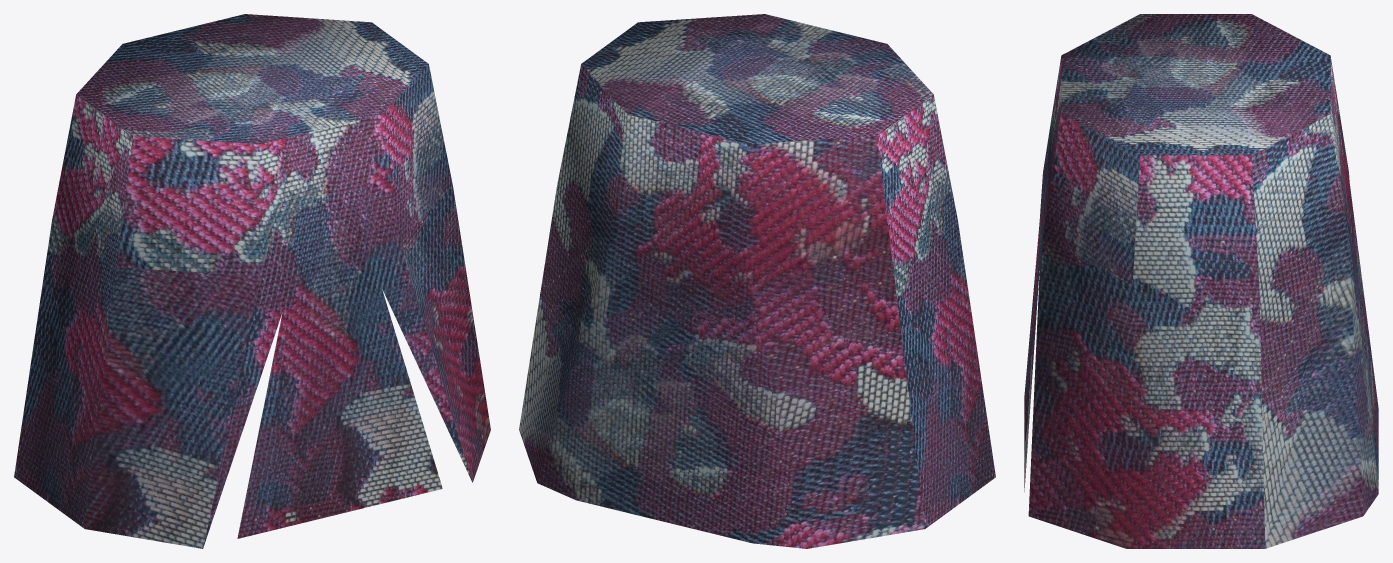
Rendered from Skirt_anim.gltf.
The picture shows the model from 3 angles, left to right: view 1: azimuth 30°, elevation 25°; view 2: azimuth 150°, elevation 25°; view 3: azimuth 270°, elevation 25°; orthographic projection.
Visible parts, largest first — view 1: Cylinder; view 2: Cylinder; view 3: Cylinder.
Boxes of the visible parts, x1,y1,x2,y2 form: Cylinder: (14, 14, 490, 548); Cylinder: (519, 14, 995, 548); Cylinder: (1024, 14, 1378, 548).
Bounding box in the file's own units: 0.4628 × 0.4076 × 0.3568.
1 material, 1 textured.
